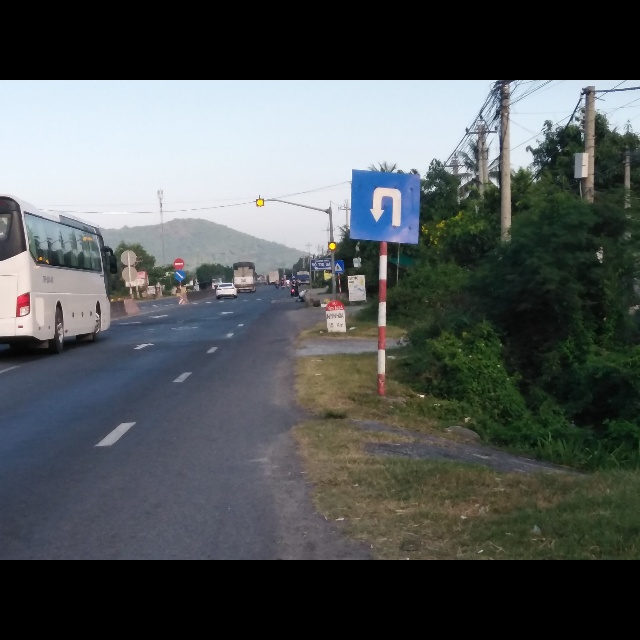Khu vực quay đầu xe: (349, 168, 421, 246)
